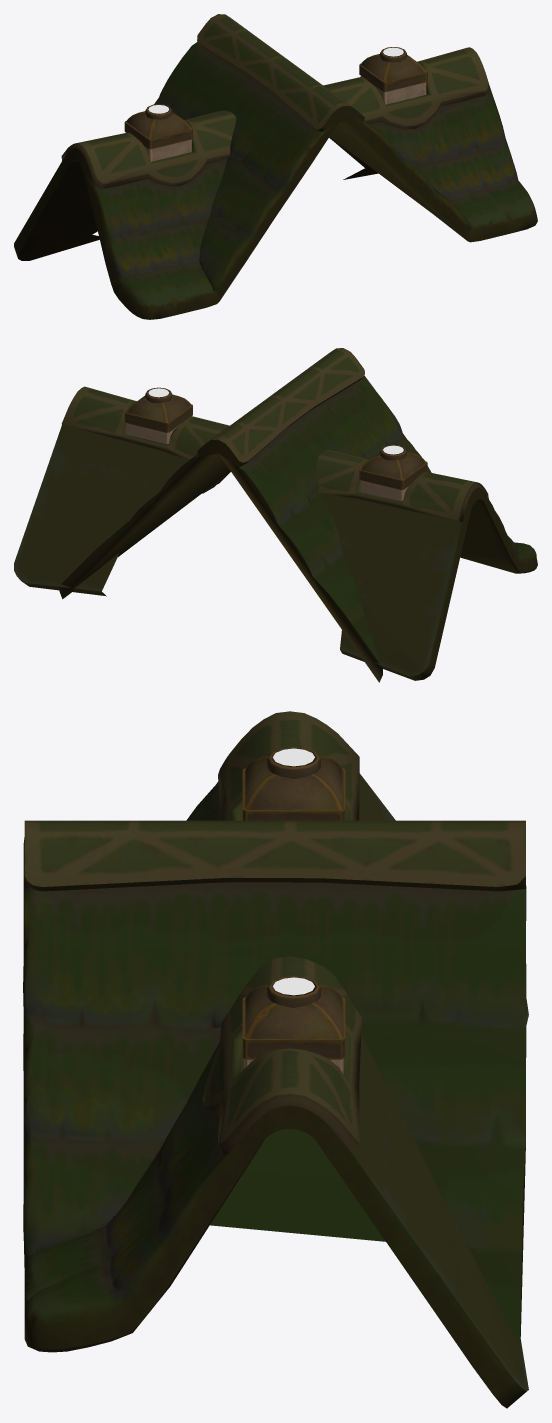
The model's file is chalet-roof-g.glb.
3 renders of one model, top to bottom at view 1: azimuth 30°, elevation 25°; view 2: azimuth 150°, elevation 25°; view 3: azimuth 270°, elevation 25°, orthographic. The views are drawn at different scales.
Parts seen in each view (by area): view 1: Thatched00_low__mRoofA, Thatched02_low__mRoofA, Cm00_low__mRoofB; view 2: Thatched00_low__mRoofA, Thatched02_low__mRoofA, Cm00_low__mRoofB; view 3: Thatched00_low__mRoofA, Thatched02_low__mRoofA, Cm00_low__mRoofB, Hole__mChimneyhole.
Part boxes in pixels (x1,y1,x2,y2): Thatched00_low__mRoofA: (61, 14, 489, 300); Thatched02_low__mRoofA: (14, 83, 537, 319); Cm00_low__mRoofB: (124, 47, 427, 161); Thatched00_low__mRoofA: (59, 348, 488, 682); Thatched02_low__mRoofA: (14, 424, 537, 680); Cm00_low__mRoofB: (124, 387, 427, 501); Thatched00_low__mRoofA: (23, 711, 526, 1346); Thatched02_low__mRoofA: (24, 773, 528, 1408); Cm00_low__mRoofB: (242, 747, 345, 1073); Hole__mChimneyhole: (273, 748, 314, 995).
Size of the model in its own units: 50.03 by 23.53 by 26.31.
Materials: 3 (2 with a texture image).
